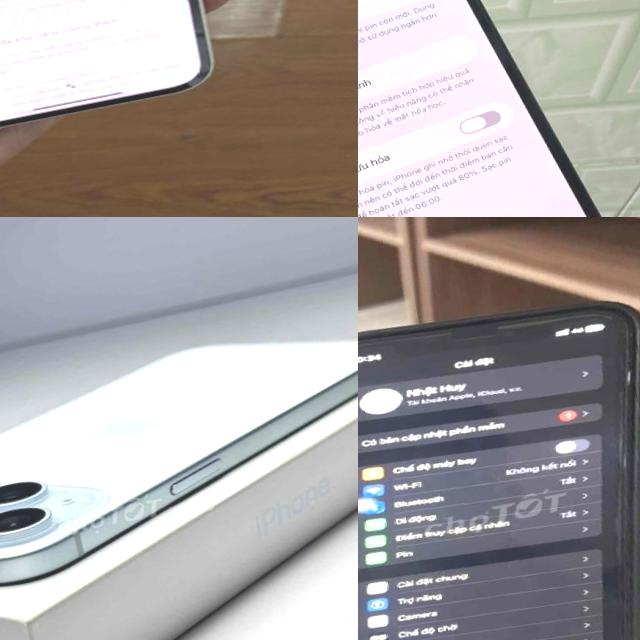gen_12_13: (0, 0, 249, 154)
gen_14: (358, 0, 640, 217)
gen_15: (0, 296, 358, 627)
gen_x_xs: (358, 271, 640, 640)
screen_defect: (167, 0, 207, 17)
